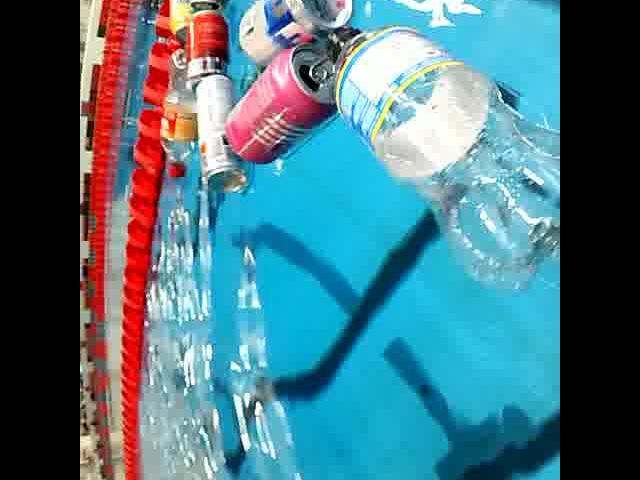Bottle: (315, 13, 560, 300), (156, 44, 202, 184)
Can: (224, 42, 344, 166), (234, 0, 360, 68), (192, 71, 256, 197), (182, 4, 226, 94), (169, 0, 195, 47)
